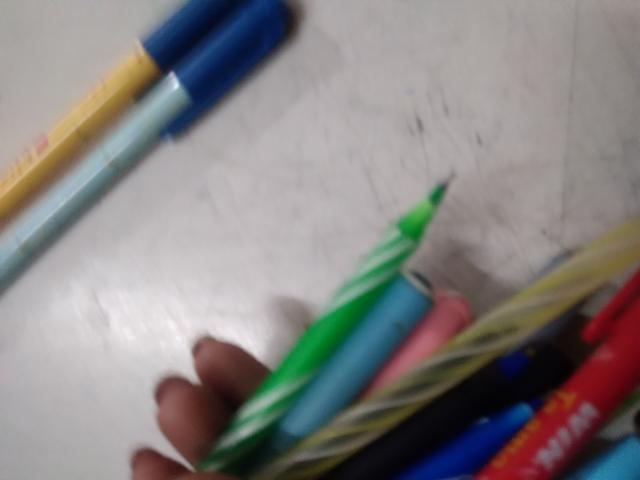PEN: (165, 147, 490, 480)
